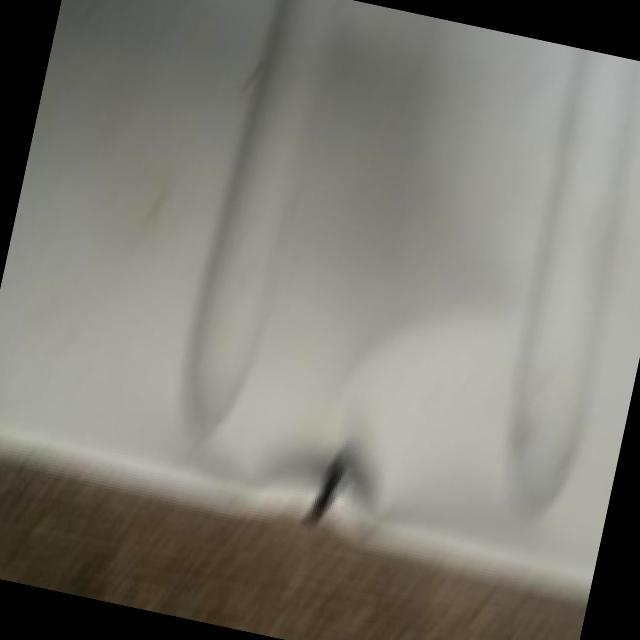crack: (291, 433, 370, 540)
